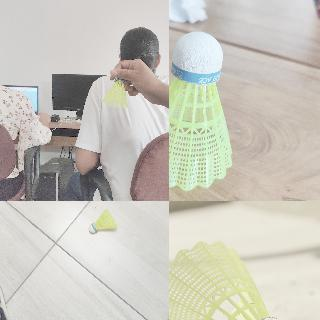shuttlecock: (169, 241, 301, 319), (169, 30, 233, 190), (102, 76, 128, 108), (89, 207, 117, 233)
